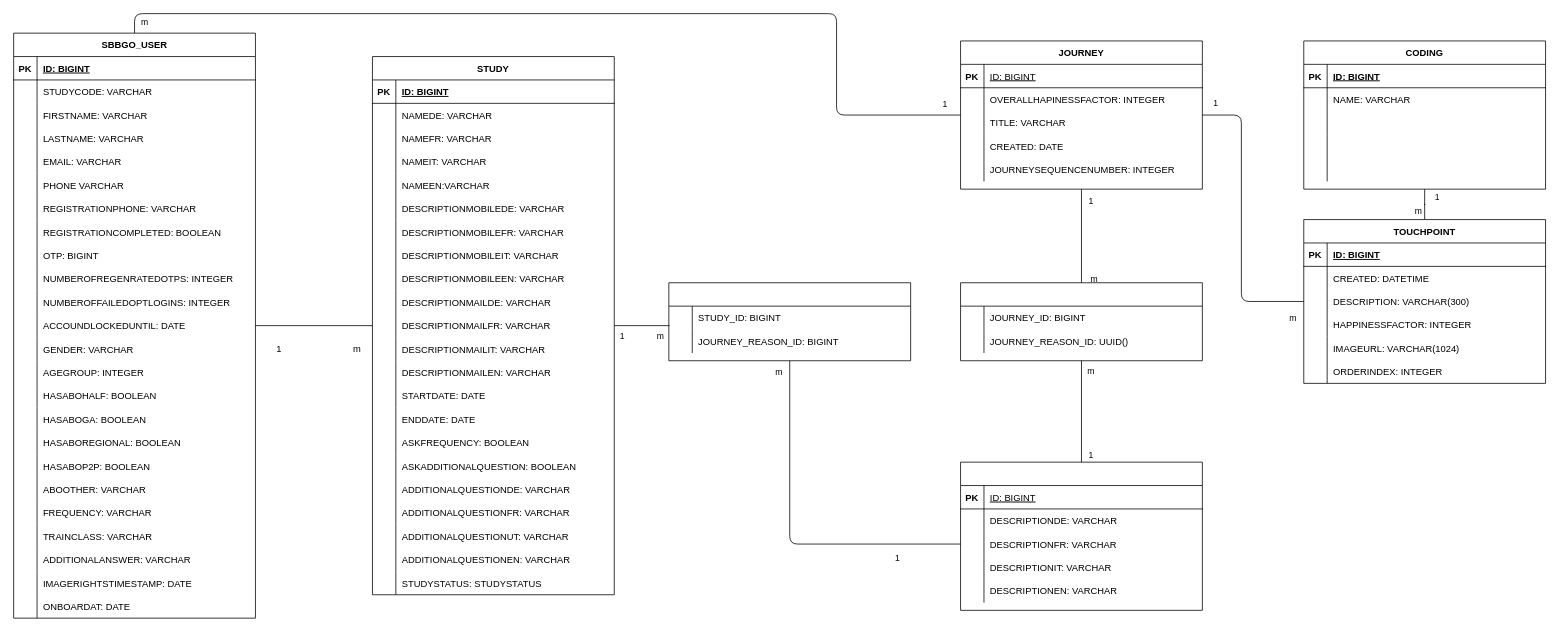
Some shapes in this 1559 by 632 pixel diagram are drawn without their labels. Each missing label, with the box of its shape:
JOURNEY_JOURNEY_REASON: (960, 282, 1202, 361)
JOURNEY_REASON: (960, 461, 1202, 610)
STUDY_JOURNEY_REASON: (668, 282, 911, 361)
